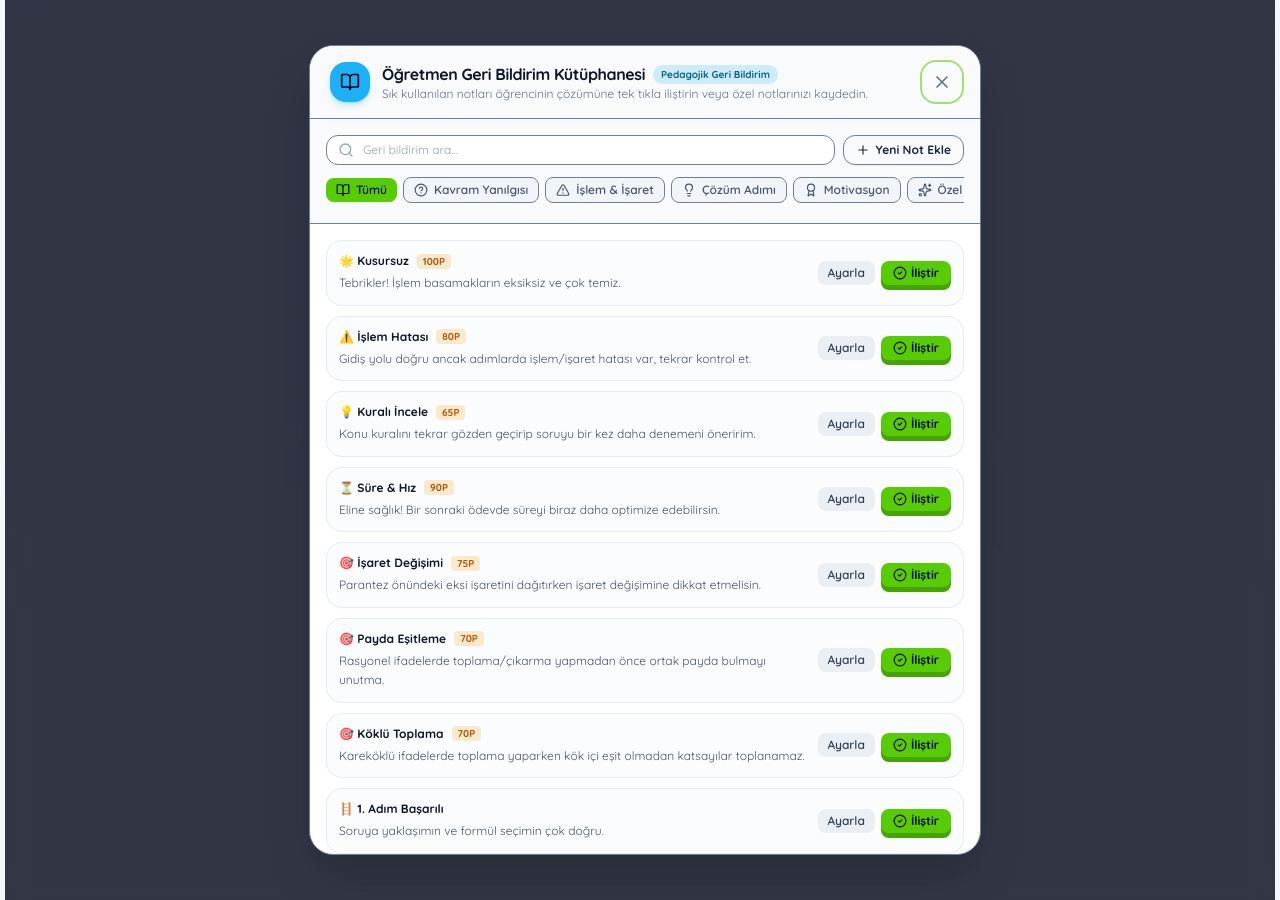
Test: TeacherFeedbackLibraryModal Component › allows adding a new custom template and persists to localStorage
The width and height of the screenshot is (1280, 900).
// Click "Yeni Not Ekle" toggle
Click the button "Yeni Not Ekle".
click(903, 150)  # box [842,135,964,165]
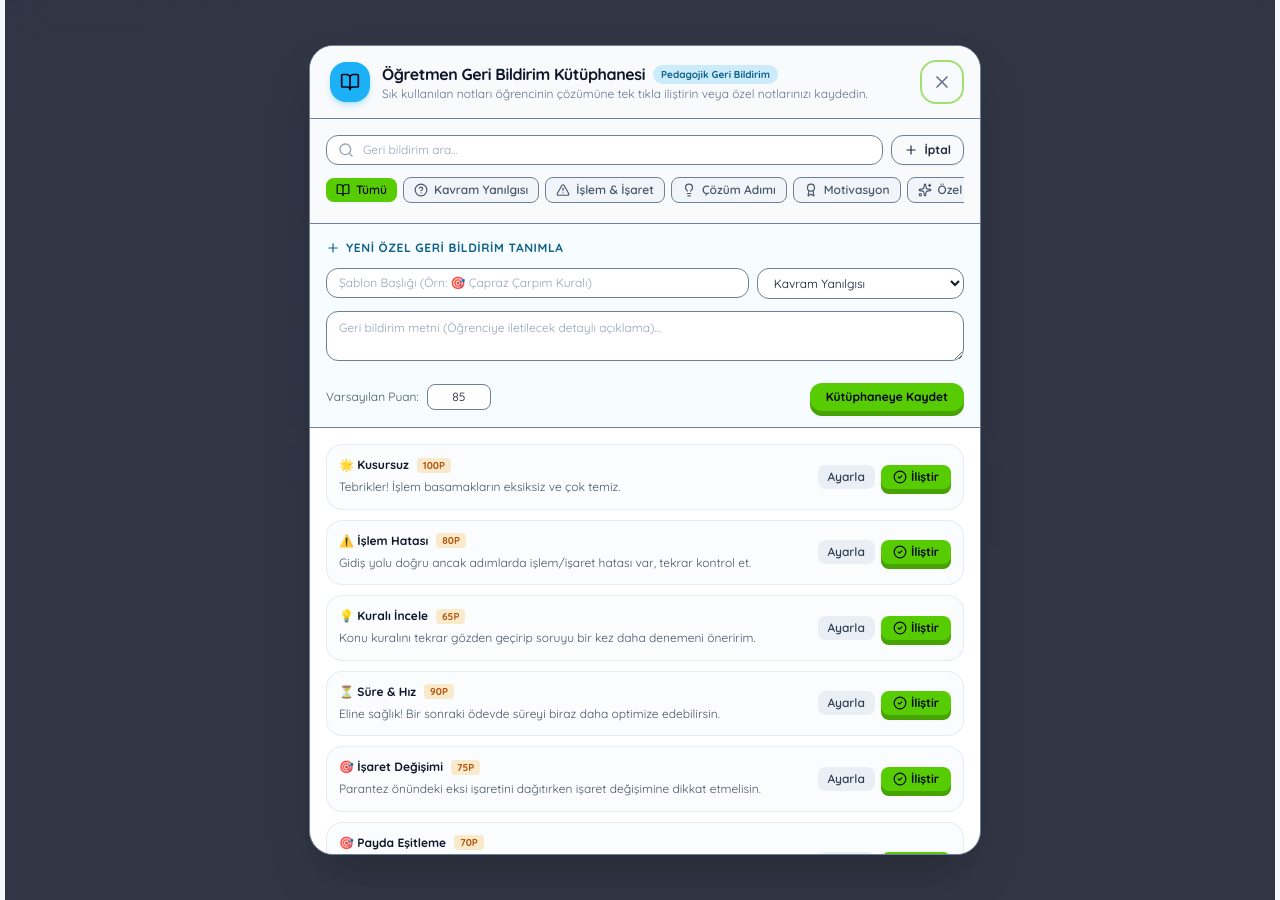
Type "Ortak Parantez" into the field with placeholder "Şablon Başlığı (Örn: 🎯 Çapraz Çarpım Kuralı)".
click(537, 283); type("Ortak Parantez")  # box [326,268,749,298]
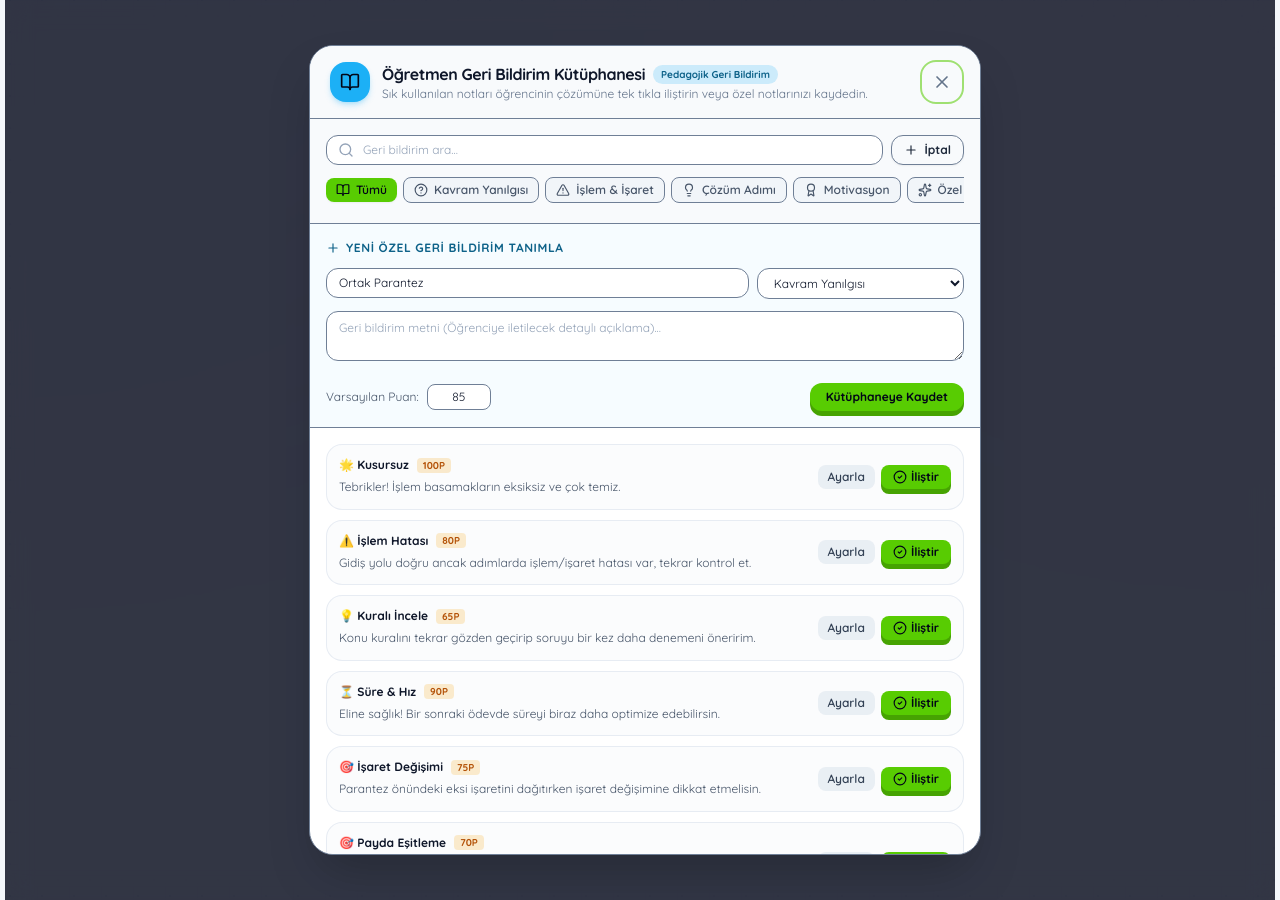
Replace the text in the text box with placeholder "Geri bildirim metni" with "Ortak paranteze alırken en büyük ortak böleni bul." at (645, 336), box [326,311,964,361]
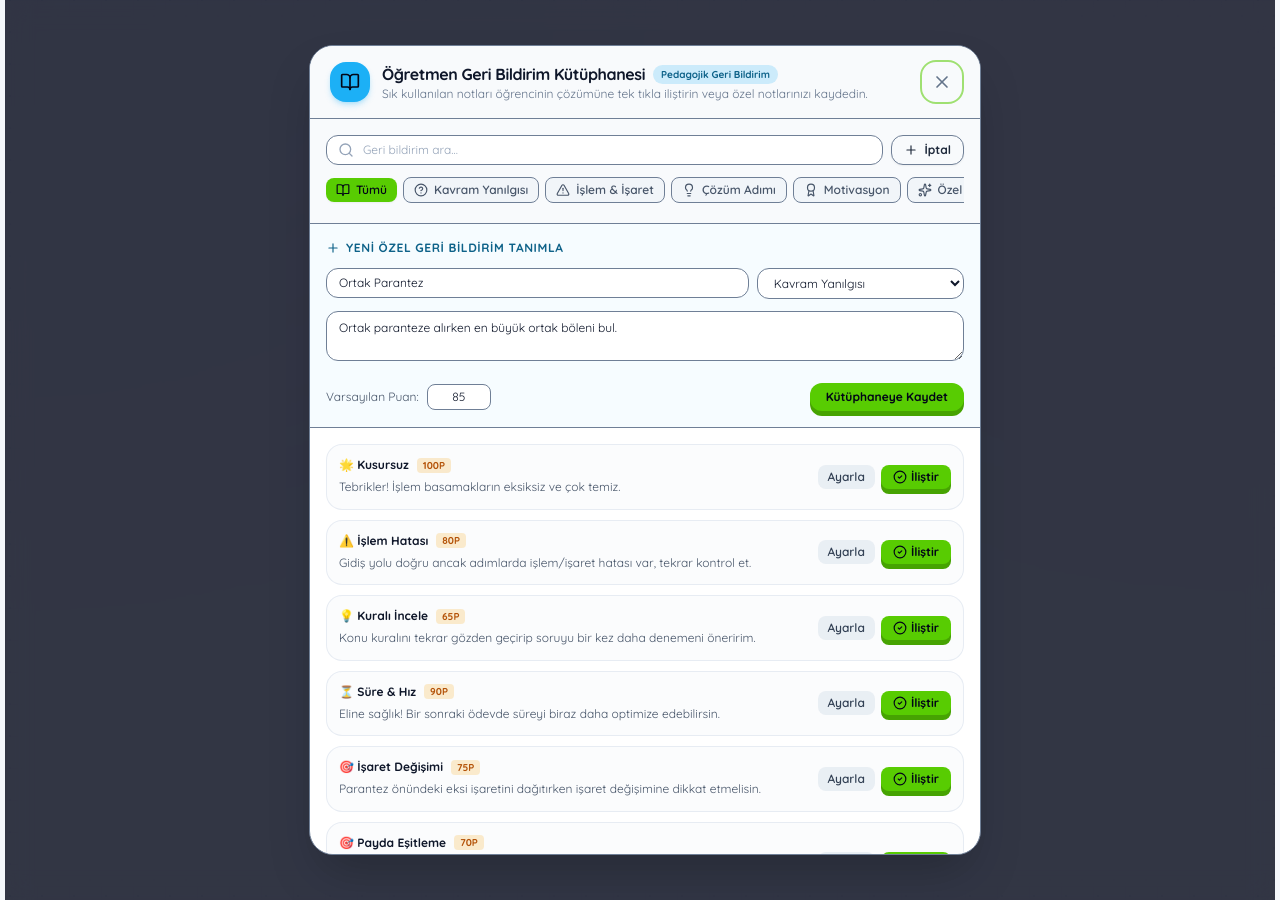
Click the button "Kütüphaneye Kaydet".
click(887, 397)  # box [810,383,964,411]
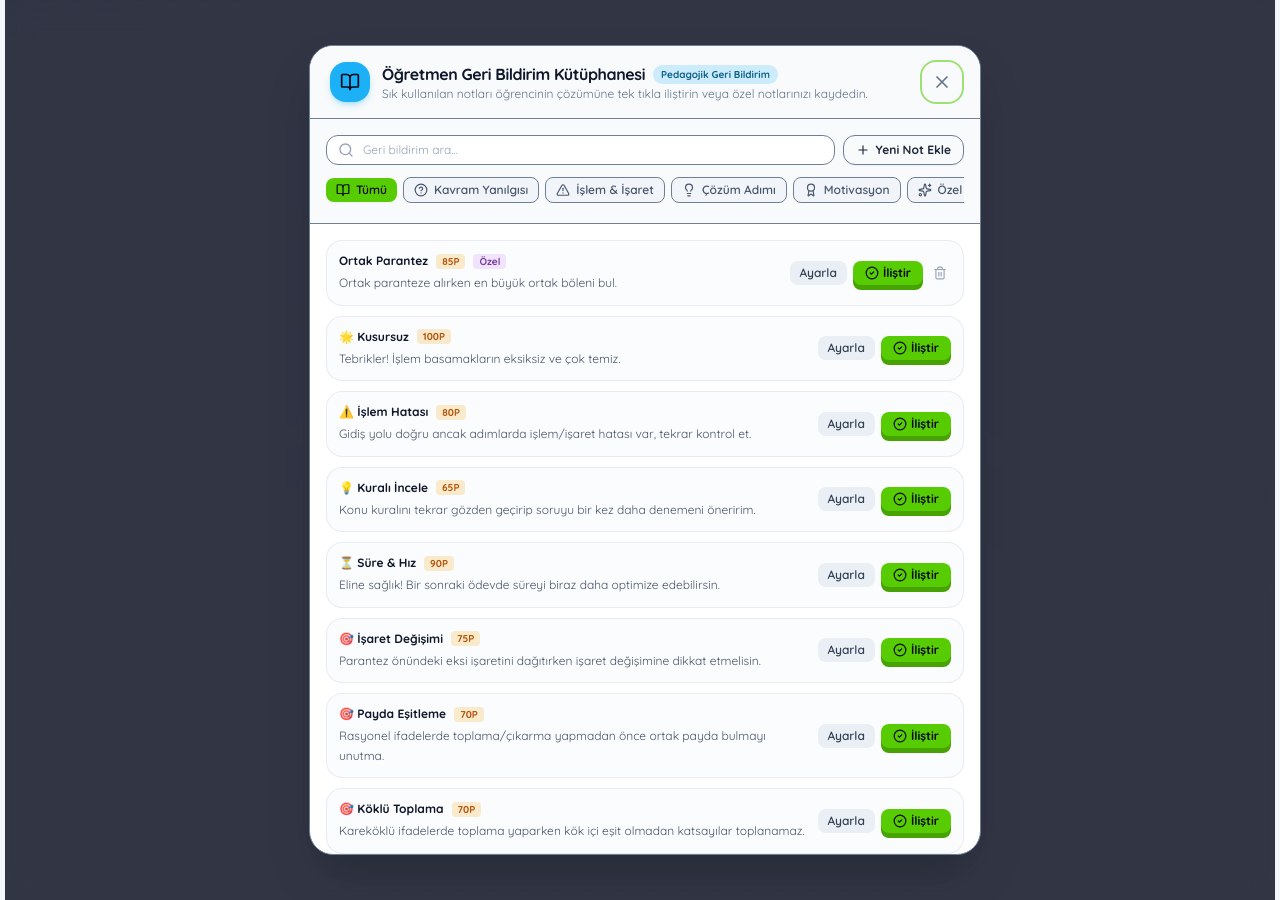
Expected: the text "Ortak Parantez" is shown, [339,253,428,269]
Expected: the text "Ortak paranteze alırken en büyük ortak böleni bul." is shown, [339,275,617,290]
